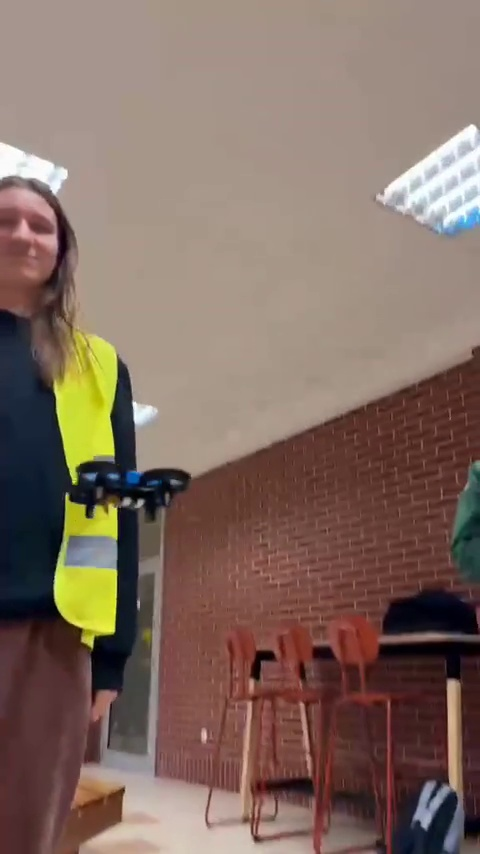drone: (60, 457, 200, 521)
vest: (0, 171, 146, 850)
